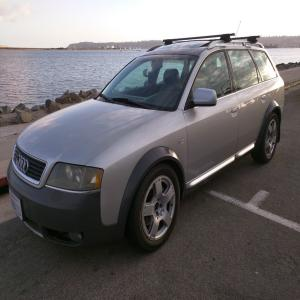Vehicle-registration-plate: (10, 190, 24, 222)
